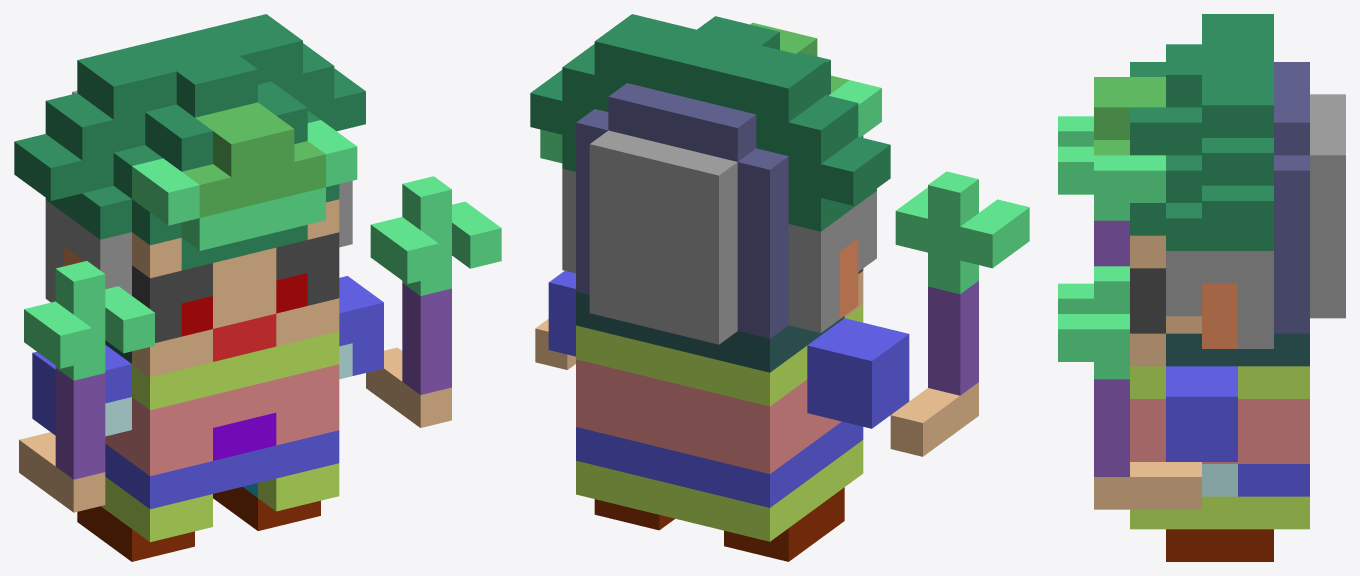
File: torture.fbx
The picture shows the model from 3 angles, left to right: view 1: azimuth 30°, elevation 25°; view 2: azimuth 150°, elevation 25°; view 3: azimuth 270°, elevation 25°; orthographic projection. The views are drawn at different scales.
Visible parts, largest first — view 1: 对象; view 2: 对象; view 3: 对象.
Boxes of the visible parts, x1=… form: 对象: x1=14, y1=14, x2=501, y2=561; 对象: x1=530, y1=14, x2=1029, y2=561; 对象: x1=1058, y1=14, x2=1345, y2=561.
Size of the model in its own units: 14 by 14 by 8.
Materials: 1 (1 with a texture image).
